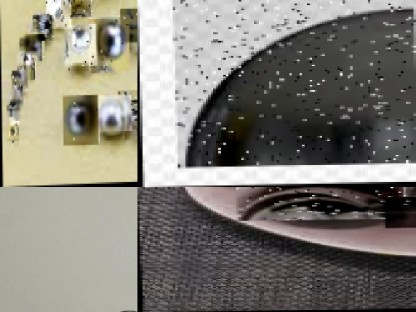ironball: (172, 0, 415, 167), (236, 187, 407, 221), (87, 18, 129, 73), (62, 95, 97, 146), (63, 25, 96, 72), (97, 96, 131, 132), (383, 197, 415, 228), (117, 90, 137, 130), (46, 0, 71, 29), (120, 9, 137, 43), (20, 34, 40, 62), (61, 0, 92, 18), (32, 15, 51, 41), (16, 54, 35, 79), (12, 72, 27, 93), (7, 88, 21, 107), (6, 128, 18, 146), (5, 118, 17, 132), (6, 106, 20, 117)
